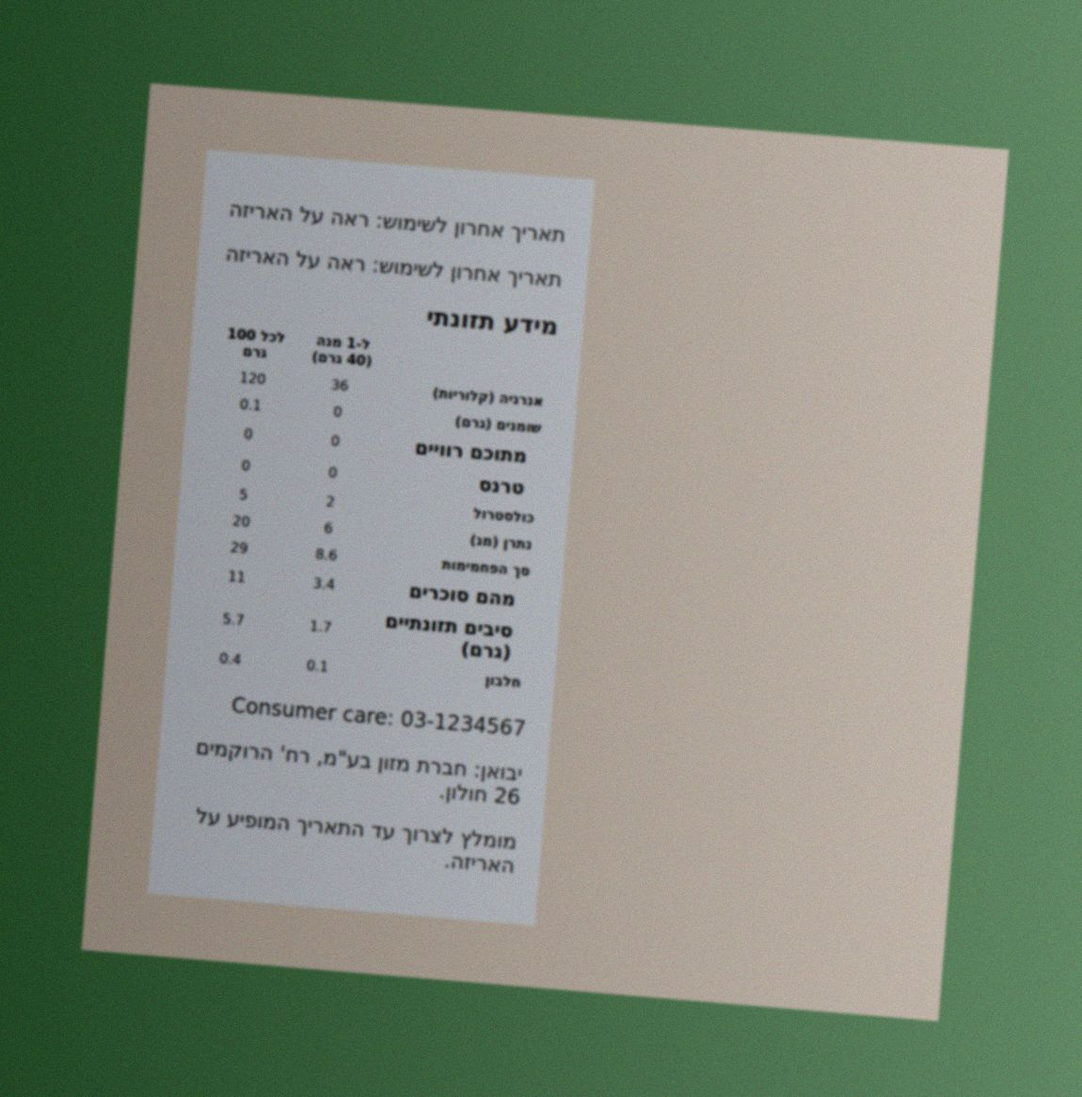carbs: (228, 537, 251, 559)
energy: (237, 367, 269, 390)
fat: (237, 394, 264, 416)
protein: (217, 648, 244, 670)
